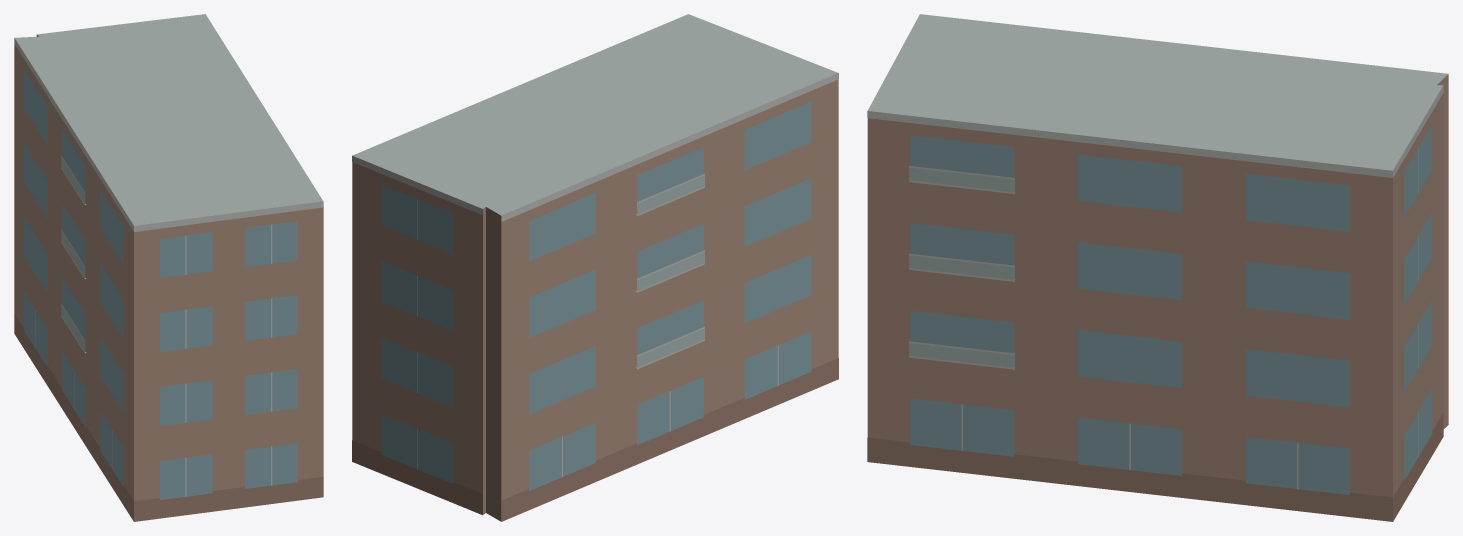
File: survey-upis-32748959.glb
3 views of the same model, side by side, from view 1: azimuth 30°, elevation 25°; view 2: azimuth 150°, elevation 25°; view 3: azimuth 270°, elevation 25° (orthographic). The views are drawn at different scales.
Visible parts, largest first — view 1: survey-upis-32748959.tmp; view 2: survey-upis-32748959.tmp; view 3: survey-upis-32748959.tmp.
Part boxes in pixels (bbox=[...]): survey-upis-32748959.tmp: bbox=[14, 14, 323, 521]; survey-upis-32748959.tmp: bbox=[352, 14, 838, 521]; survey-upis-32748959.tmp: bbox=[867, 14, 1448, 521].
Size of the model in its own units: 11.41 by 11.9 by 17.86.
